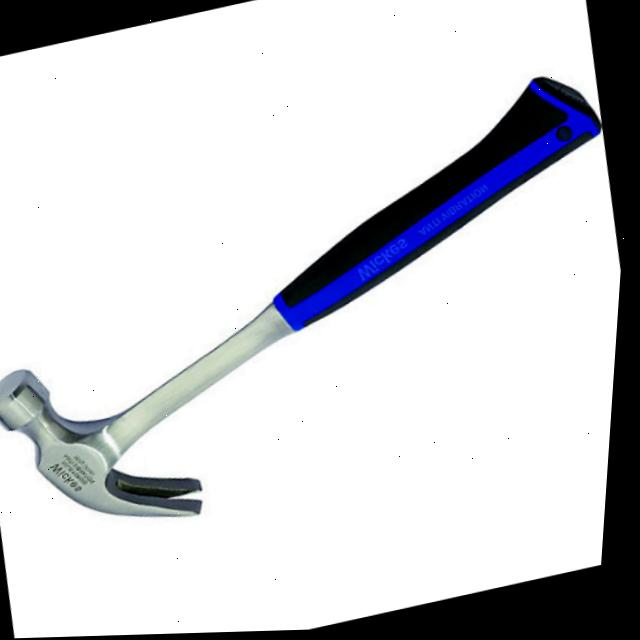hammer: (0, 56, 636, 565)
